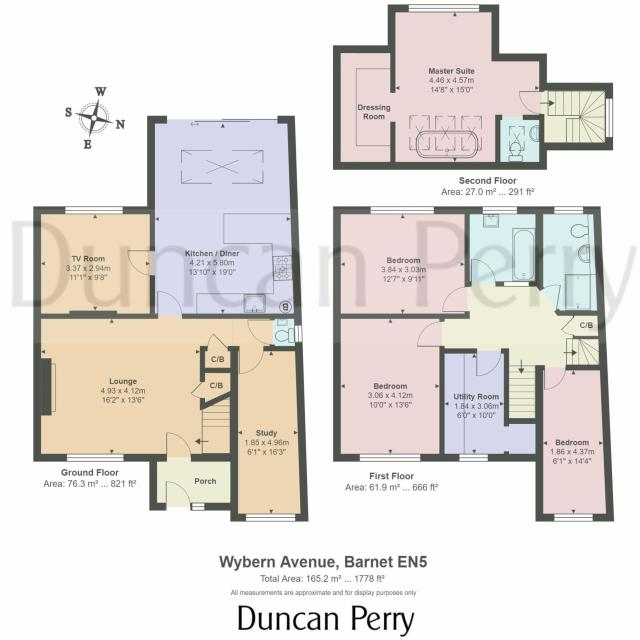DOOR: (126, 249, 156, 278), (416, 318, 445, 347), (470, 258, 497, 287), (157, 290, 184, 319), (166, 432, 192, 462), (238, 346, 265, 374), (247, 319, 275, 346), (476, 348, 502, 377), (442, 286, 471, 312), (519, 90, 545, 115), (539, 284, 562, 312), (544, 364, 567, 390)
ROOM: (126, 115, 302, 319), (387, 4, 547, 170), (333, 206, 470, 319), (229, 346, 309, 522), (33, 206, 155, 319), (535, 364, 614, 522)
SLIDING DOOR: (166, 116, 279, 123)
WINDOW: (370, 206, 434, 215), (408, 4, 480, 12), (64, 206, 124, 215), (66, 453, 124, 462), (359, 454, 421, 462), (245, 513, 296, 522), (553, 513, 594, 522), (604, 98, 613, 138), (482, 206, 518, 214), (459, 453, 489, 462), (554, 206, 584, 215), (294, 325, 303, 343)
